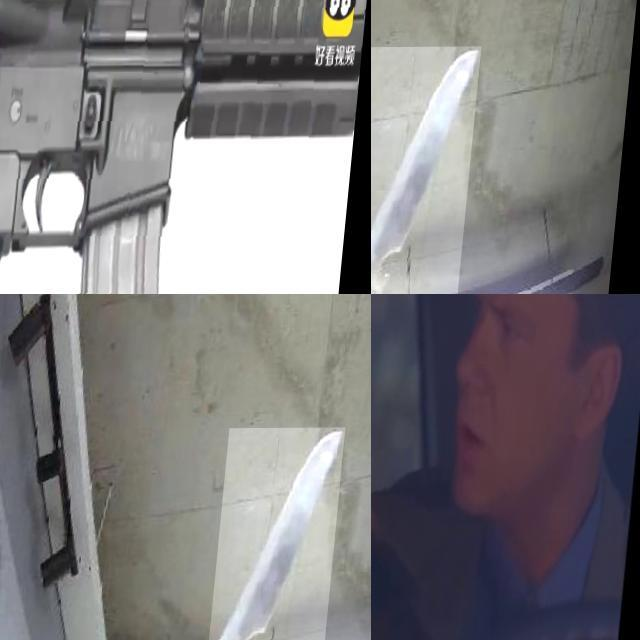-: (212, 428, 351, 640), (371, 47, 487, 294)
gun-knife-thesis - v11 Yolov5 augmented: (0, 0, 371, 294), (371, 396, 480, 640)
